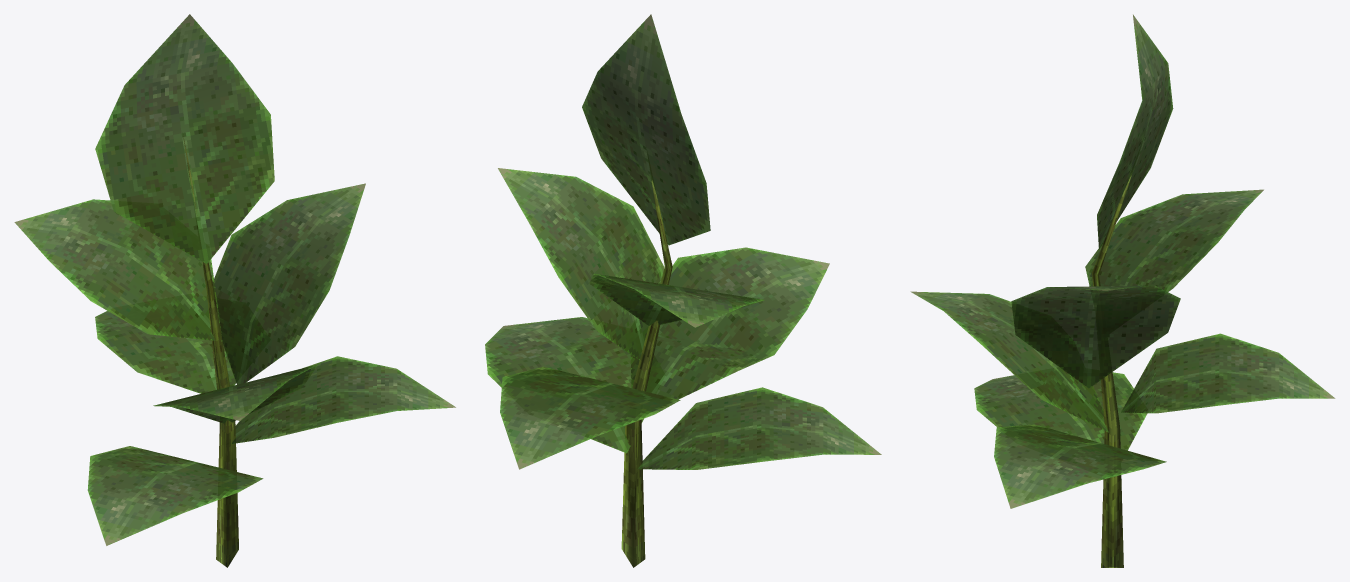
3 renders of one model, left to right at view 1: azimuth 30°, elevation 25°; view 2: azimuth 150°, elevation 25°; view 3: azimuth 270°, elevation 25°, orthographic. The views are drawn at different scales.
Parts seen in each view (by area): view 1: fl_01; view 2: fl_01; view 3: fl_01.
Part boxes in pixels (x1,y1,x2,y2): fl_01: (14,14,455,567); fl_01: (485,14,881,567); fl_01: (910,14,1335,567).
Size of the model in its own units: 0.2511 by 0.3657 by 0.2596.
1 material, 1 textured.
